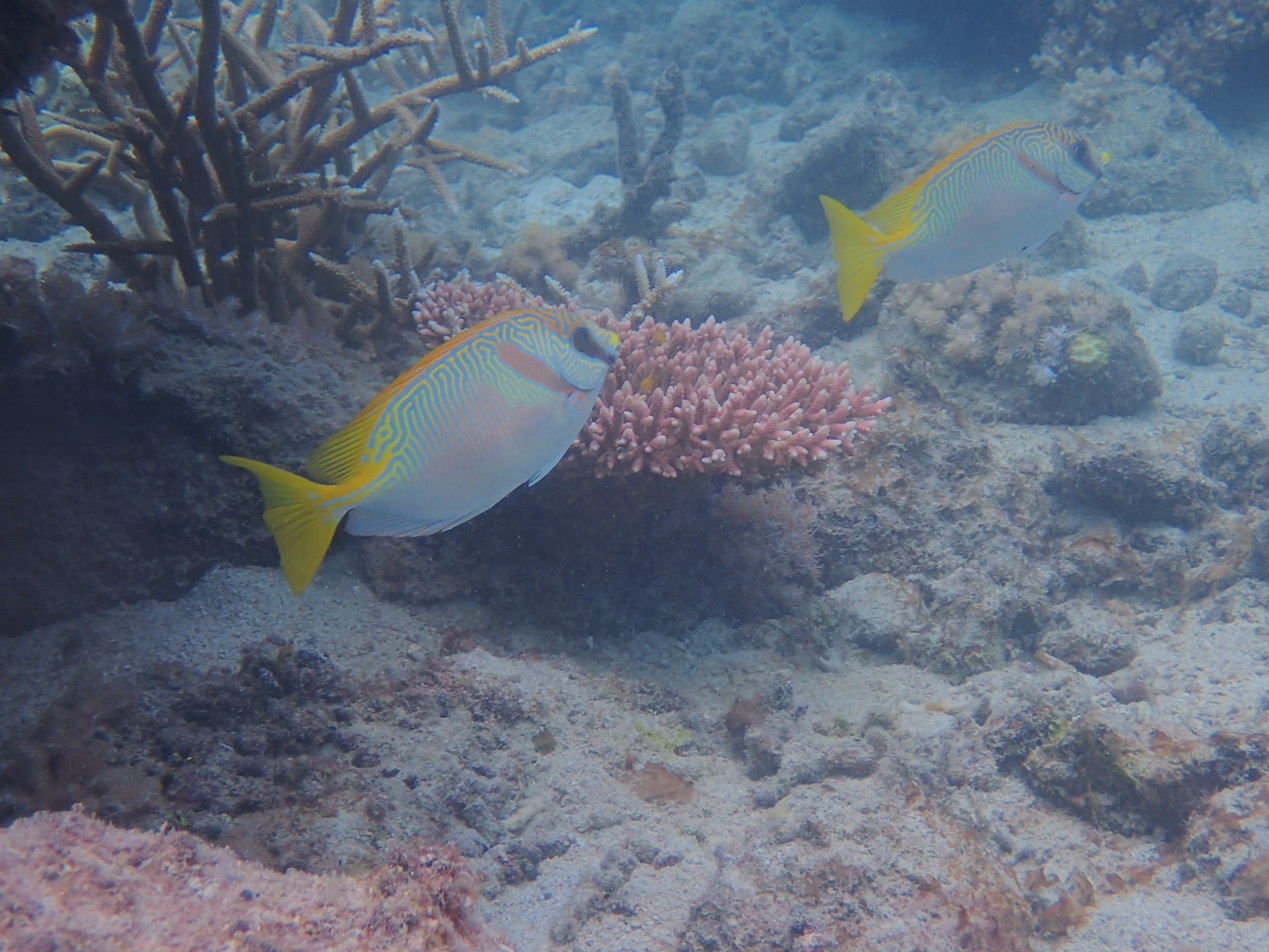fishbody: (217, 307, 633, 597), (818, 109, 1114, 321)
fishhead: (481, 304, 625, 429), (998, 116, 1111, 217)
